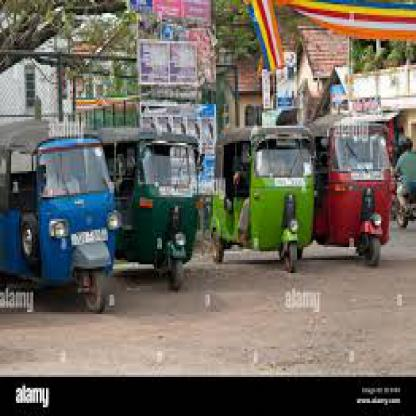tuk: (0, 119, 123, 315), (100, 126, 205, 288), (206, 130, 318, 269), (311, 122, 397, 266)
